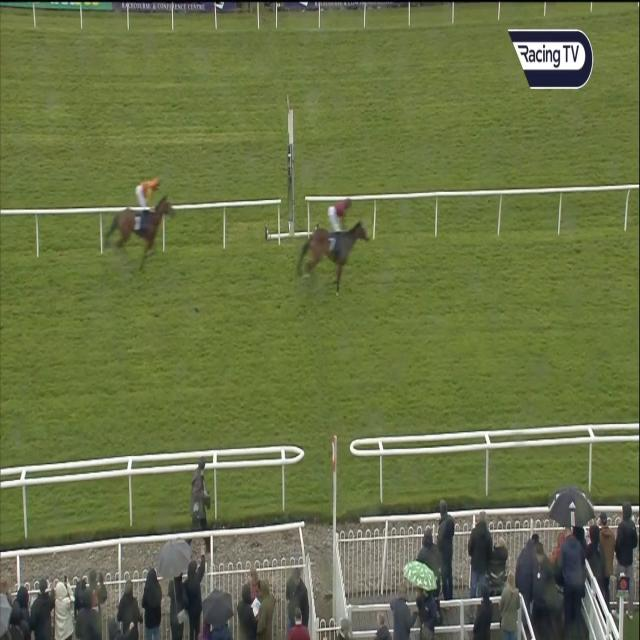horses-racing: (298, 197, 372, 300), (104, 176, 186, 268)
